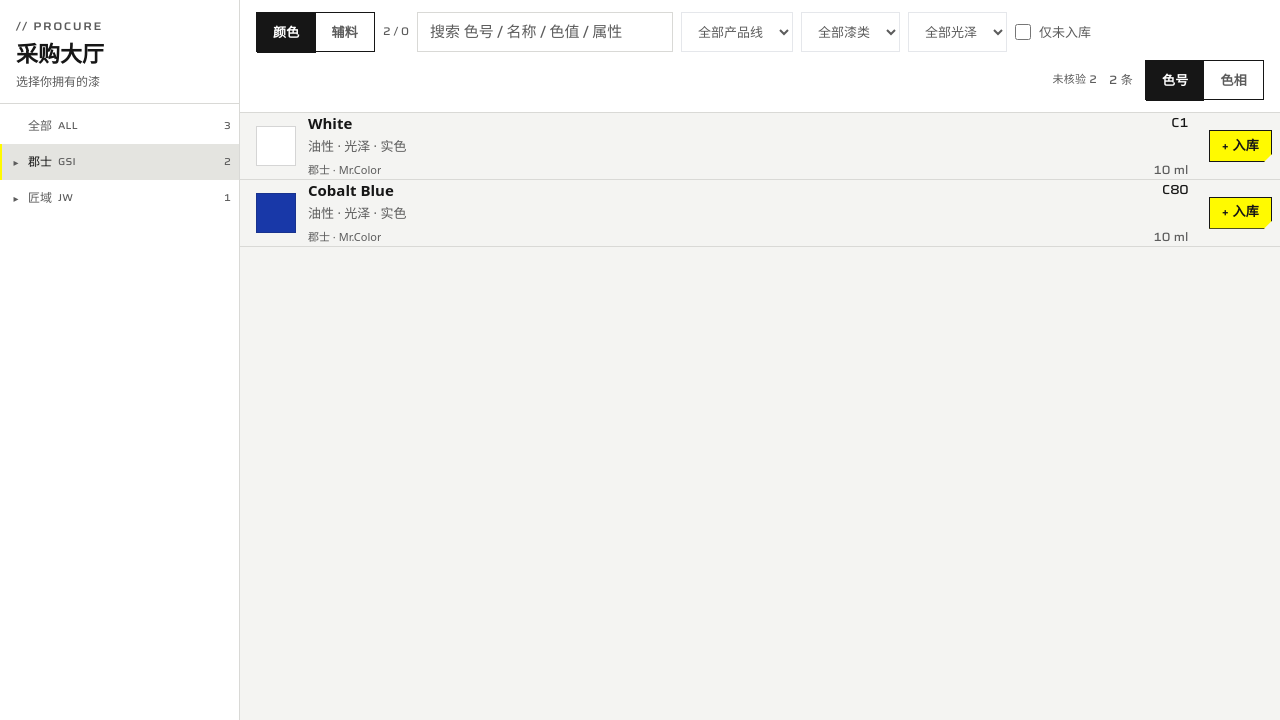
Test: 采购大厅（spec 3.2 / AC-15 / AC-16） › 多选批量：Ctrl+点击选中 2 行 → 底部 Toolbar → 一次批量入库
The image size is (1280, 720).
Click the option "White C1 油性 · 光泽 · 实色 郡士 · Mr.Color 10 ml" at coordinates (276, 146), box top-left (240, 113), bottom-right (1209, 179)
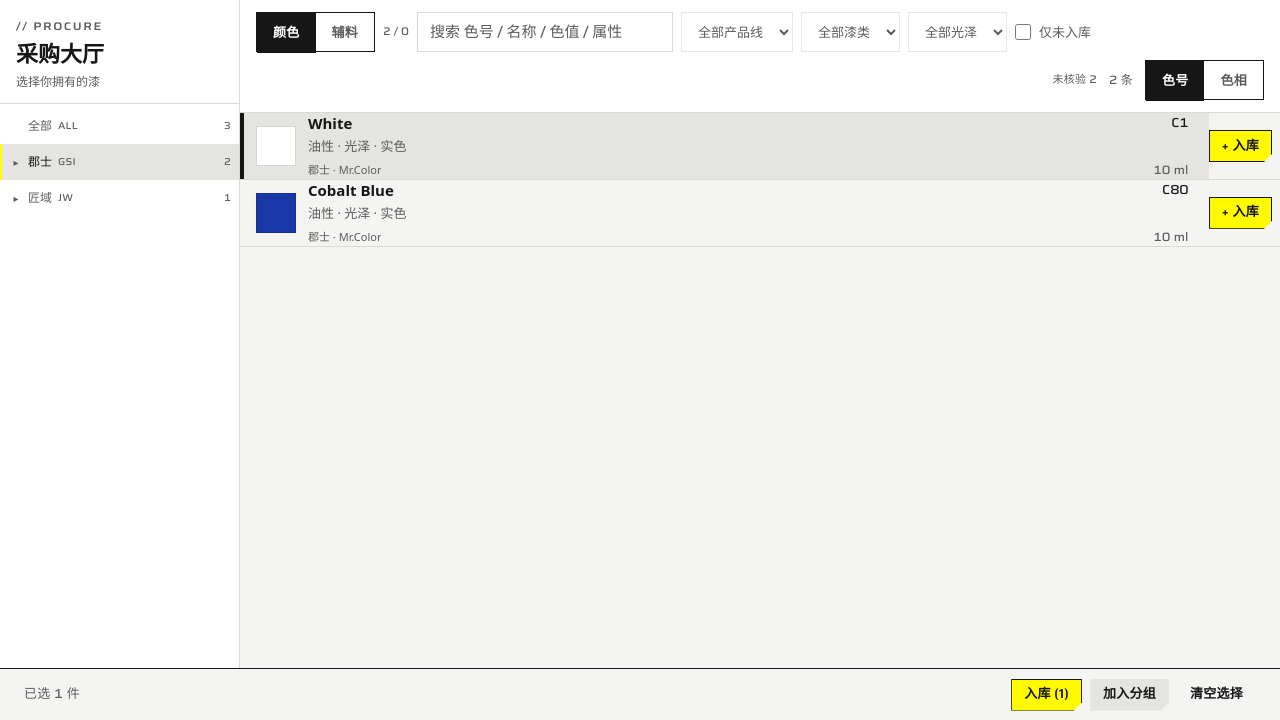
Click the option "Cobalt Blue C80 油性 · 光泽 · 实色 郡士 · Mr.Color 10 ml" at coordinates (276, 213), box top-left (240, 180), bottom-right (1209, 246)
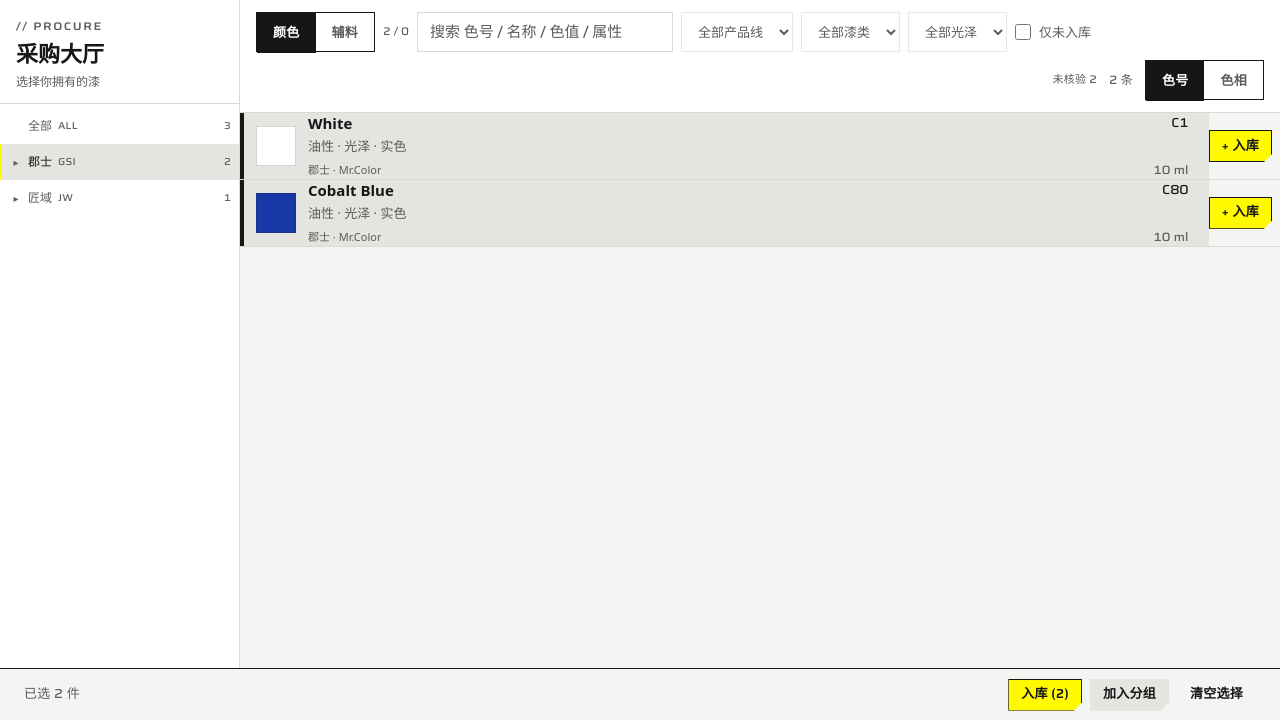
Expected: the text "已选 2 件" is shown, top-left (24, 684), bottom-right (80, 705)
Click the button "入库 (2)" at coordinates (1045, 694), box top-left (1008, 678), bottom-right (1082, 710)
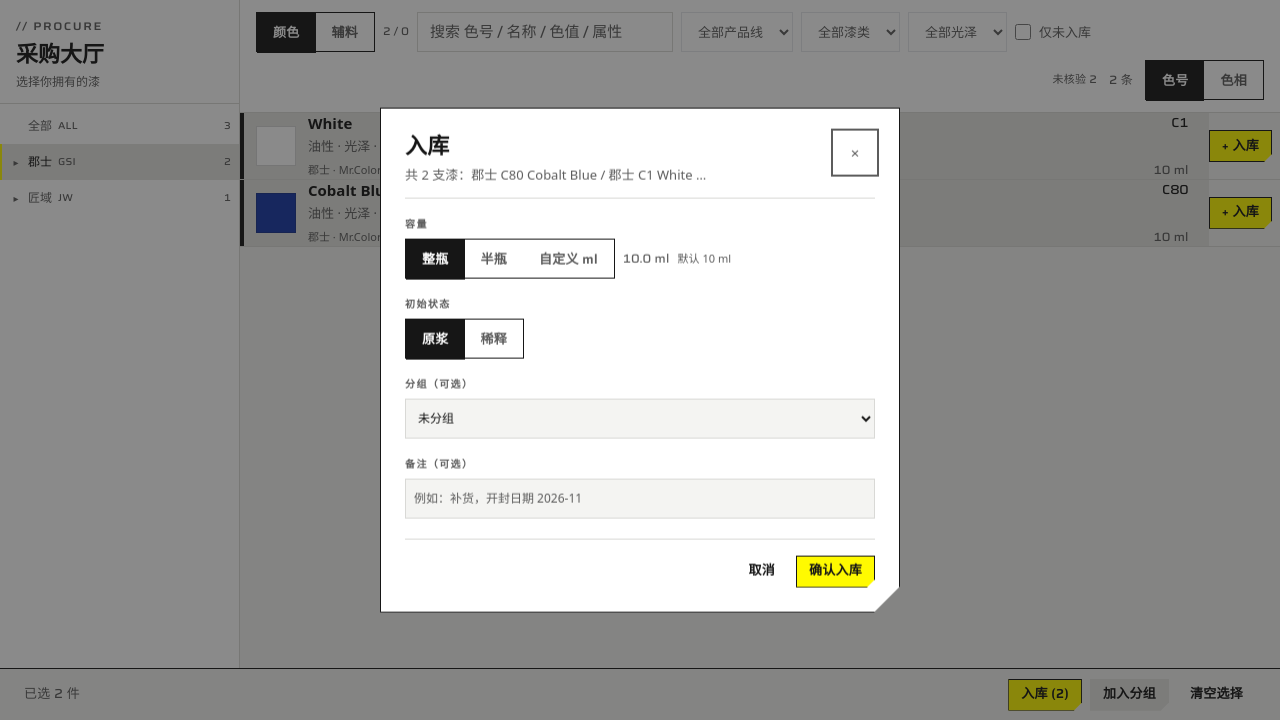
Click the button "确认入库" at coordinates (836, 571), box top-left (796, 555), bottom-right (875, 587)
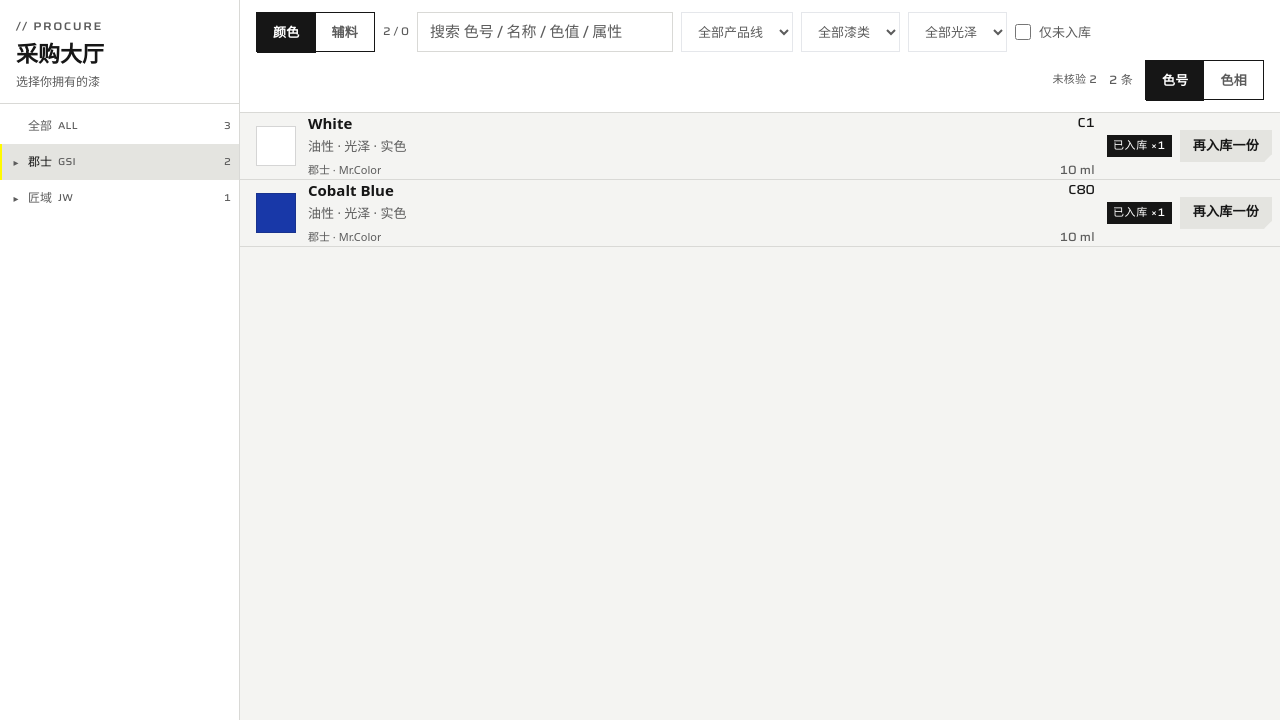
Expected: the text "已入库 ×1" is shown, top-left (1107, 135), bottom-right (1172, 157)
Expected: the text "再入库一份" is shown, top-left (1180, 130), bottom-right (1272, 162)
